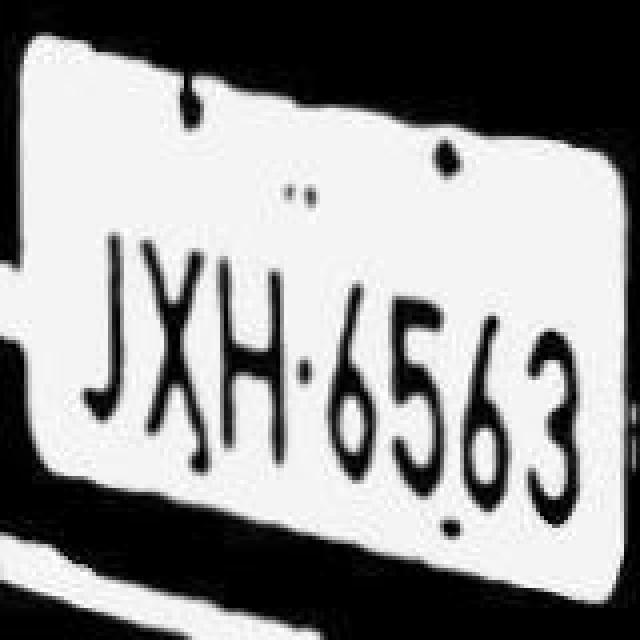3: (514, 292, 590, 556)
5: (386, 262, 454, 514)
6: (318, 252, 386, 512), (458, 272, 526, 524)
H: (216, 242, 292, 470)
J: (46, 170, 126, 438)
X: (132, 220, 208, 444)
